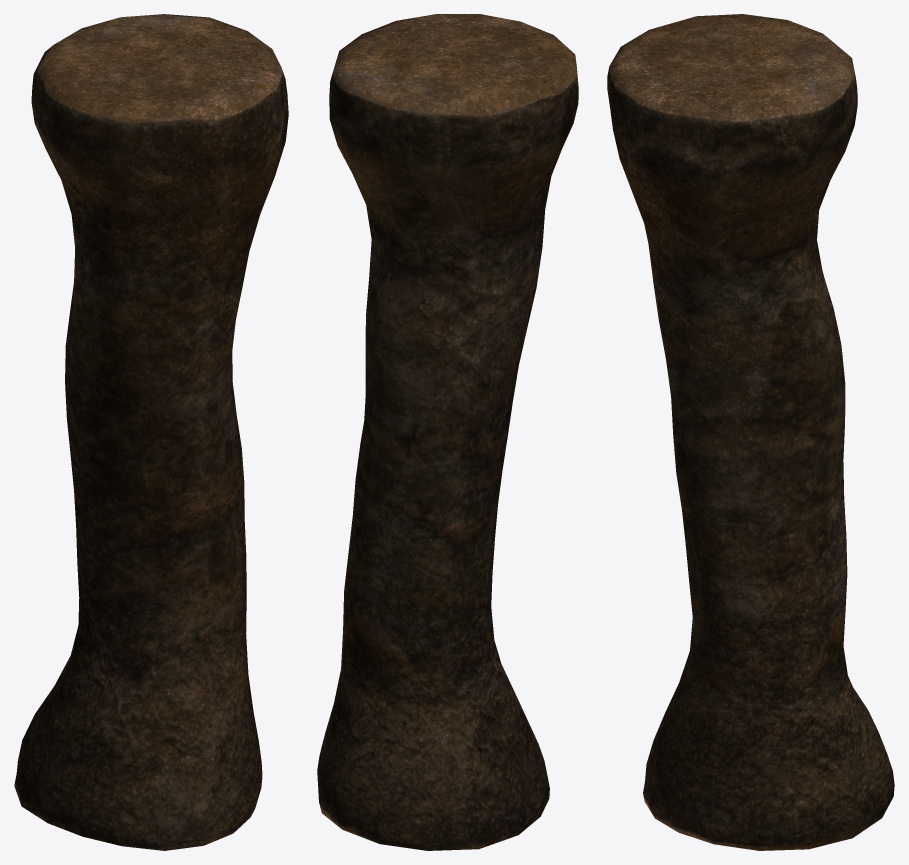
File: SM_TI_Column_6m_0.fbx
3 views of the same model, side by side, from view 1: azimuth 30°, elevation 25°; view 2: azimuth 150°, elevation 25°; view 3: azimuth 270°, elevation 25° (orthographic). The views are drawn at different scales.
Visible parts, largest first — view 1: SM_TI_Column_6m_0; view 2: SM_TI_Column_6m_0; view 3: SM_TI_Column_6m_0.
Part boxes in pixels (x1,y1,x2,y2): SM_TI_Column_6m_0: (14,14,288,850); SM_TI_Column_6m_0: (317,14,578,850); SM_TI_Column_6m_0: (607,14,894,850).
Bounding box in the file's own units: 1.93 × 2.2 × 6.29.
